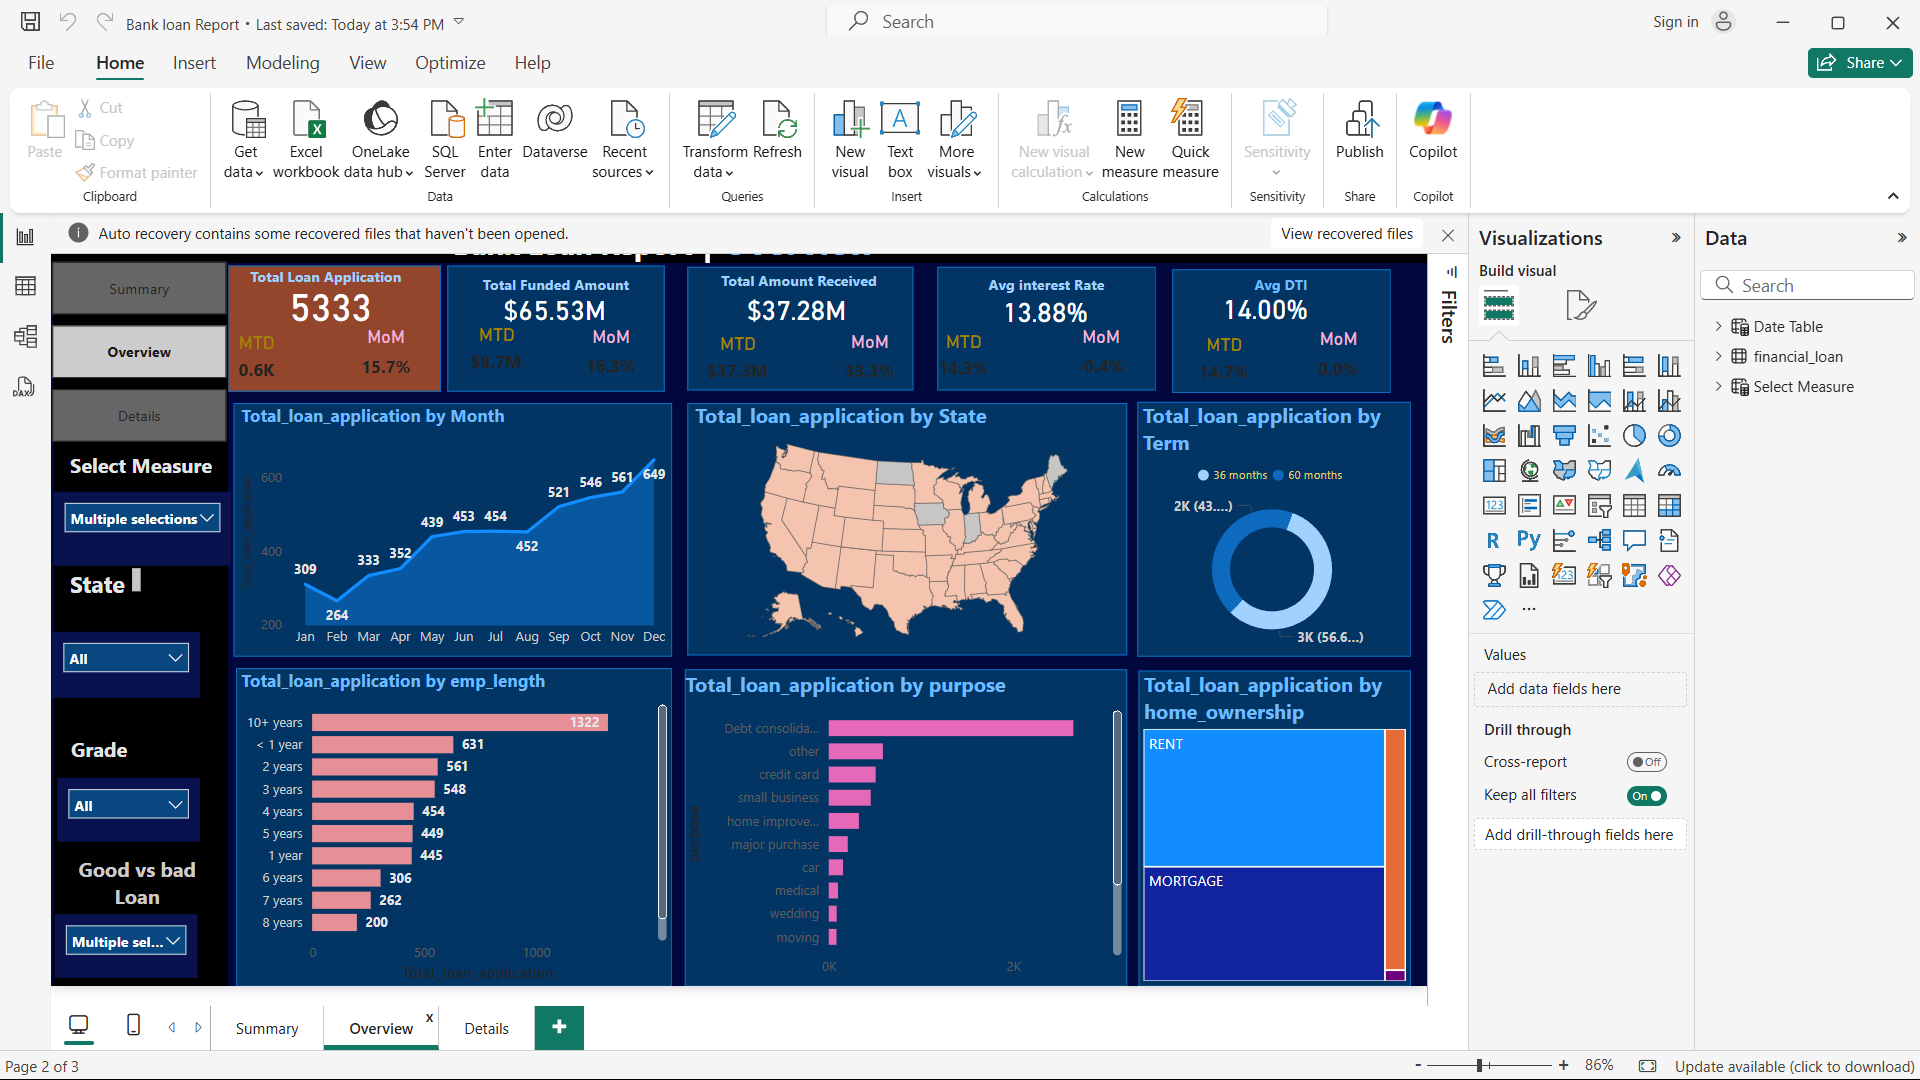

This screenshot's page, from the dashboard's own definition file:
{"tool":"powerbi","page":{"name":"Overview","canvas":[1280,720],"ordinal":1},"visuals":[{"type":"shape","box":[0,0,1280,46.7],"z":0},{"type":"shape","box":[2.3,51.2,162.8,668.6],"z":1000},{"type":"textbox","box":[368.3,0,543.3,68.3],"z":2000},{"type":"shape","box":[165.1,48.8,197.7,117.4],"z":3000},{"type":"card","fields":{"Values":["financial_loan.Total_loan_application"]},"box":[201.2,61.6,117.4,47.7],"z":4000},{"type":"textbox","box":[137.2,45.3,237.2,47.7],"z":5000},{"type":"card","title":"MTD","fields":{"Values":["financial_loan.MTD Loan Applicaton"]},"box":[137.2,110.5,108.1,55.8],"z":6000},{"type":"card","title":"MoM","fields":{"Values":["financial_loan.MoM Loan application"]},"box":[438,103,103,54],"z":7000},{"type":"shape","box":[368.6,48.8,202.3,117.4],"z":8000},{"type":"textbox","box":[369.8,52.3,200,31.4],"z":9000},{"type":"card","fields":{"Values":["financial_loan.Total Funded Amount"]},"box":[380.2,66.3,176.7,46.5],"z":10000},{"type":"card","title":"MTD","fields":{"Values":["financial_loan.MTD funded Amoutn"]},"box":[360.5,103.5,108.1,54.7],"z":11000},{"type":"card","title":"MoM","fields":{"Values":["financial_loan.MoM Loan application"]},"box":[260.5,104.7,102.3,61.6],"z":12000},{"type":"card","title":"MoM","fields":{"Values":["financial_loan.Mom Total Funded Amount"]},"box":[469.8,104.7,102.3,60.5],"z":13000},{"type":"shape","box":[591.9,50,210.5,115.1],"z":14000},{"type":"card","fields":{"Values":["financial_loan.Total Amount Received"]},"box":[604.7,66.3,177.9,46.5],"z":15000},{"type":"card","title":"MTD","fields":{"Values":["financial_loan.Total Amount Received"]},"box":[584.9,111.6,108.1,54.7],"z":16000},{"type":"card","title":"MoM","fields":{"Values":["financial_loan.MoM Total Amount Recieved"]},"box":[710.5,109.3,102.3,60.5],"z":17000},{"type":"shape","box":[824.4,50,203.5,115.1],"z":18000},{"type":"card","fields":{"Values":["financial_loan.Avg Interest Rate"]},"box":[836,68.6,177.9,46.5],"z":19000},{"type":"card","title":"MTD","fields":{"Values":["financial_loan.MTD avg Int Rate"]},"box":[786,109.3,125.6,54.7],"z":20000},{"type":"card","title":"MoM","fields":{"Values":["financial_loan.MoM Avg Int Rate"]},"box":[925.6,104.7,102.3,60.5],"z":21000},{"type":"textbox","box":[595.4,48.8,204.7,34.9],"z":22000},{"type":"textbox","box":[827.9,52.3,200,32.6],"z":23000},{"type":"shape","box":[1043,52.3,203.5,115.1],"z":24000},{"type":"textbox","box":[1041.9,52.3,204.7,34.9],"z":25000},{"type":"card","fields":{"Values":["financial_loan.Avg DTI"]},"box":[1040.7,65.1,177.9,46.5],"z":26000},{"type":"card","title":"MTD","fields":{"Values":["financial_loan.MTD Avg Dti"]},"box":[1037.2,112.8,108.1,54.7],"z":27000},{"type":"card","title":"MoM","fields":{"Values":["financial_loan.MoM Avg DTI"]},"box":[1146.5,107,102.3,60.5],"z":28000},{"type":"slicer","fields":{"Values":["financial_loan.address_state"]},"box":[1.2,389.5,137.2,61.6],"z":29000},{"type":"textbox","box":[5.8,325.6,82.6,34.9],"z":30000},{"type":"slicer","fields":{"Values":["financial_loan.grade"]},"box":[5.8,525.6,132.6,59.3],"z":31000},{"type":"textbox","box":[5.8,481.4,77.9,34.9],"z":32000},{"type":"slicer","fields":{"Values":["financial_loan.Good v Bad Loan"]},"box":[3.5,652.3,132.6,59.3],"z":33000},{"type":"textbox","box":[4.7,593,151.2,59.3],"z":34000},{"type":"shape","box":[589.5,424.4,411.6,295.3],"z":35000},{"type":"slicer","fields":{"Values":["Select Measure.Select Measure"]},"box":[2.3,259.3,165.1,68.6],"z":36000},{"type":"textbox","box":[3.5,217.4,160.5,41.9],"z":37000},{"type":"shape","box":[591.9,176.7,409.3,234.9],"z":38000},{"type":"shapeMap","fields":{"Value":["financial_loan.Total_loan_application"],"Category":["financial_loan.address_state"]},"box":[594.2,175.6,405.8,233.7],"z":39000},{"type":"shape","box":[1010.5,175.6,254.7,237.2],"z":40000},{"type":"donutChart","fields":{"Y":["financial_loan.Total_loan_application"],"Category":["financial_loan.term"]},"box":[1010.5,175.6,251.2,234.9],"z":41000},{"type":"shape","box":[169.8,176.7,408.1,236],"z":42000},{"type":"areaChart","fields":{"Y":["financial_loan.Total_loan_application"],"Category":["Date Table.Month"]},"box":[172.1,176.7,405.8,236],"z":43000},{"type":"shape","box":[172.1,423.3,405.8,296.5],"z":44000},{"type":"barChart","fields":{"Y":["financial_loan.Total_loan_application"],"Category":["financial_loan.emp_length"]},"box":[172.1,423.3,405.8,296.5],"z":45000},{"type":"barChart","fields":{"Y":["financial_loan.Total_loan_application"],"Category":["financial_loan.purpose"]},"box":[584.9,425.6,416.3,294.2],"z":46000},{"type":"shape","box":[1011.6,425.6,253.5,294.2],"z":47000},{"type":"treemap","fields":{"Values":["financial_loan.Total_loan_application"],"Group":["financial_loan.home_ownership"]},"box":[1011.6,425.6,253.5,294.2],"z":48000},{"type":"pageNavigator","box":[1.2,45.3,162.8,168.6],"z":49000}]}

Visuals, with their boxes on the page's 1280x720 design canvas (x1, y1, x2, y2). These are canvas units, not pixel positions in the 1920x1080 screenshot, which may show the page scaled, cropped or inside an application window:
shape: [0, 0, 1280, 47]
shape: [2, 51, 165, 720]
textbox: [368, 0, 912, 68]
shape: [165, 49, 363, 166]
card - financial_loan.Total_loan_application: [201, 62, 319, 109]
textbox: [137, 45, 374, 93]
"MTD" card: [137, 110, 245, 166]
"MoM" card: [438, 103, 541, 157]
shape: [369, 49, 571, 166]
textbox: [370, 52, 570, 84]
card - financial_loan.Total Funded Amount: [380, 66, 557, 113]
"MTD" card: [360, 104, 469, 158]
"MoM" card: [260, 105, 363, 166]
"MoM" card: [470, 105, 572, 165]
shape: [592, 50, 802, 165]
card - financial_loan.Total Amount Received: [605, 66, 783, 113]
"MTD" card: [585, 112, 693, 166]
"MoM" card: [710, 109, 813, 170]
shape: [824, 50, 1028, 165]
card - financial_loan.Avg Interest Rate: [836, 69, 1014, 115]
"MTD" card: [786, 109, 912, 164]
"MoM" card: [926, 105, 1028, 165]
textbox: [595, 49, 800, 84]
textbox: [828, 52, 1028, 85]
shape: [1043, 52, 1246, 167]
textbox: [1042, 52, 1247, 87]
card - financial_loan.Avg DTI: [1041, 65, 1219, 112]
"MTD" card: [1037, 113, 1145, 168]
"MoM" card: [1146, 107, 1249, 168]
slicer - financial_loan.address_state: [1, 390, 138, 451]
textbox: [6, 326, 88, 360]
slicer - financial_loan.grade: [6, 526, 138, 585]
textbox: [6, 481, 84, 516]
slicer - financial_loan.Good v Bad Loan: [4, 652, 136, 712]
textbox: [5, 593, 156, 652]
shape: [590, 424, 1001, 720]
slicer - Select Measure.Select Measure: [2, 259, 167, 328]
textbox: [4, 217, 164, 259]
shape: [592, 177, 1001, 412]
shapeMap - financial_loan.Total_loan_application x financial_loan.address_state: [594, 176, 1000, 409]
shape: [1010, 176, 1265, 413]
donutChart - financial_loan.Total_loan_application x financial_loan.term: [1010, 176, 1262, 410]
shape: [170, 177, 578, 413]
areaChart - financial_loan.Total_loan_application x Date Table.Month: [172, 177, 578, 413]
shape: [172, 423, 578, 720]
barChart - financial_loan.Total_loan_application x financial_loan.emp_length: [172, 423, 578, 720]
barChart - financial_loan.Total_loan_application x financial_loan.purpose: [585, 426, 1001, 720]
shape: [1012, 426, 1265, 720]
treemap - financial_loan.Total_loan_application x financial_loan.home_ownership: [1012, 426, 1265, 720]
pageNavigator: [1, 45, 164, 214]
